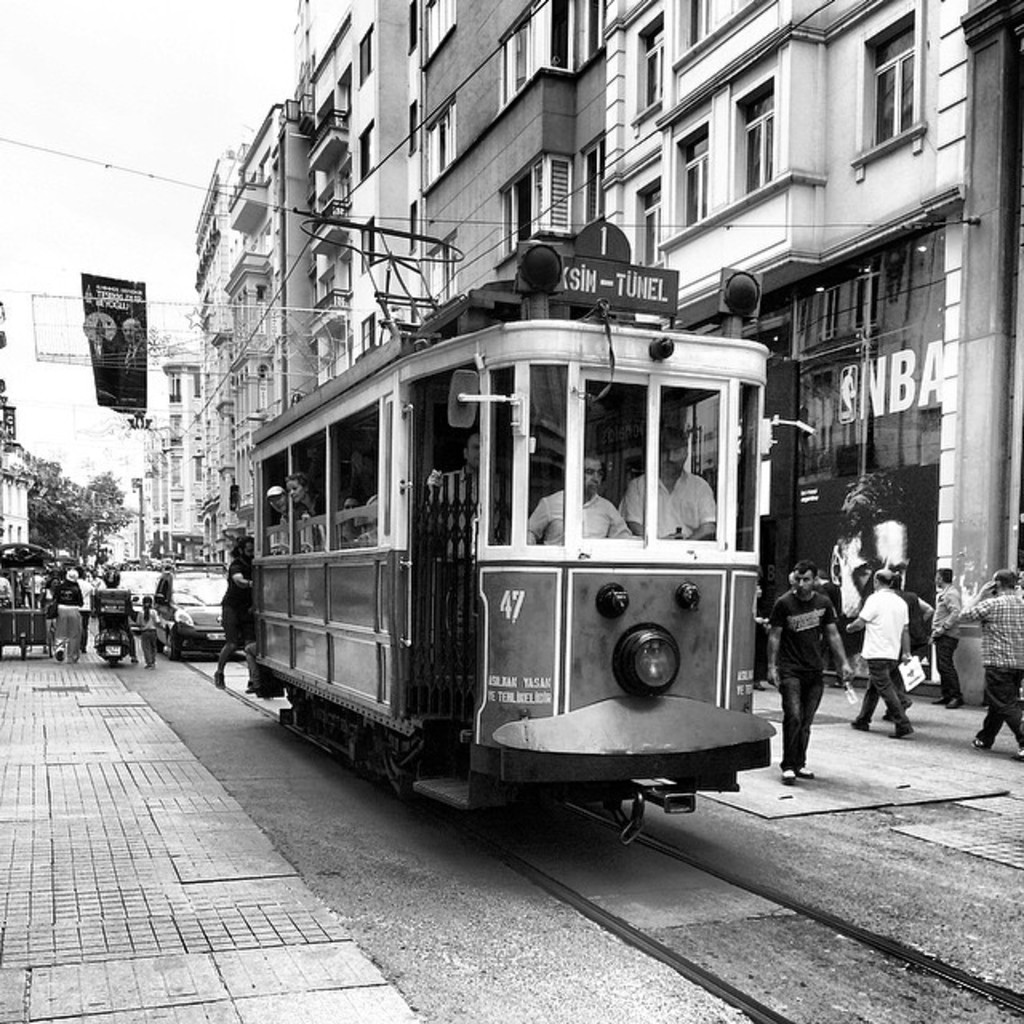train: (230, 216, 787, 854)
